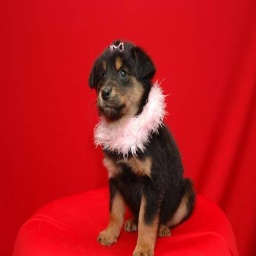dog: (88, 39, 194, 256)
